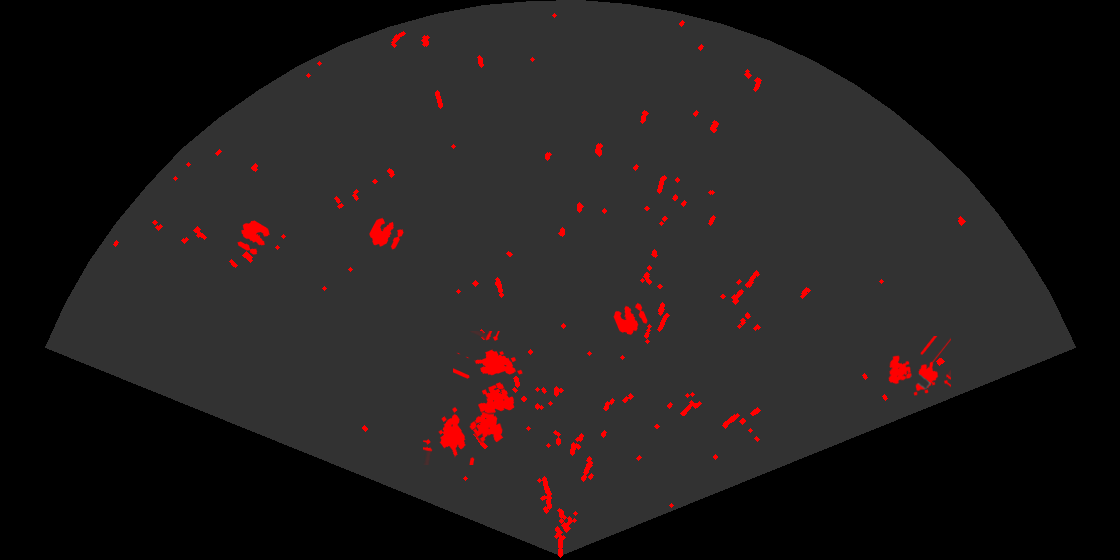ball: (612, 301, 649, 336), (236, 219, 271, 256), (368, 216, 405, 251)
cage: (453, 331, 524, 415), (423, 405, 505, 465), (887, 336, 951, 397)
